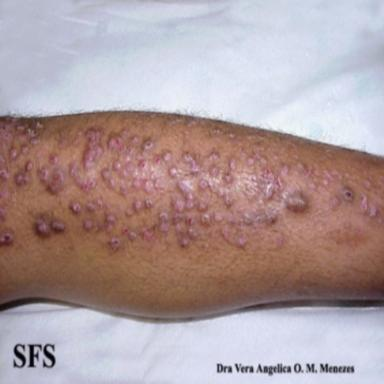Epidermolysis-Bullosa-Pruriginosa: (69, 125, 313, 251), (0, 117, 44, 245), (29, 208, 65, 237), (38, 155, 64, 193), (359, 194, 377, 219), (341, 187, 354, 201)
